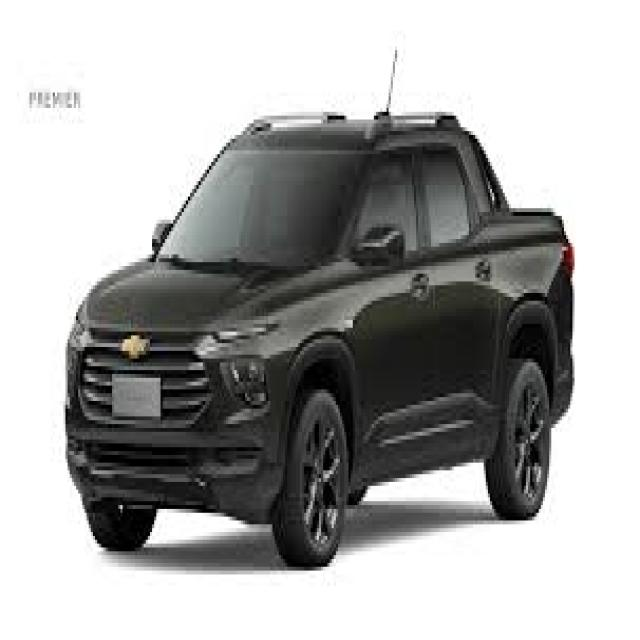CMT: (63, 105, 575, 572)
